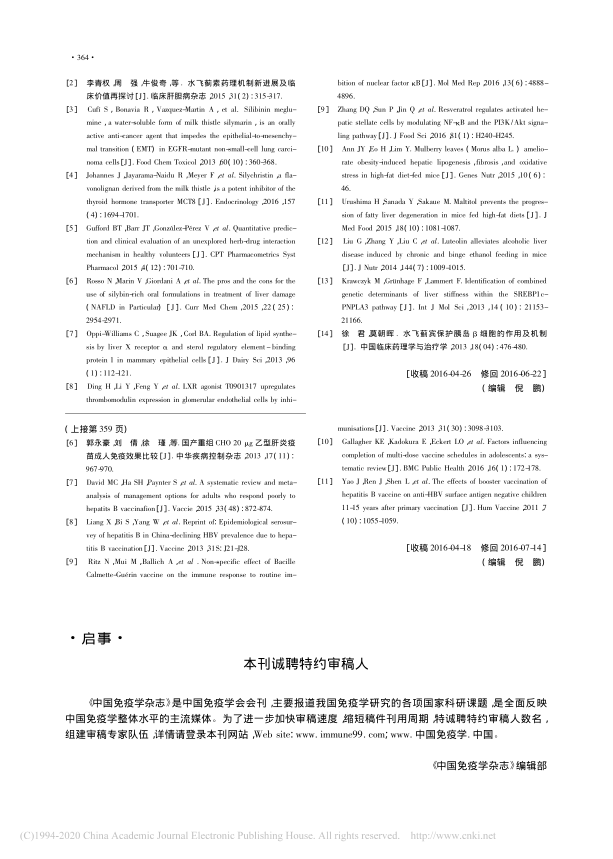Header: (71, 51, 96, 62)
Reference: (66, 105, 299, 166), (65, 327, 298, 378), (65, 223, 298, 273), (66, 169, 299, 218), (317, 143, 550, 192), (318, 276, 550, 325), (318, 477, 550, 526), (318, 424, 552, 472), (65, 276, 296, 324), (317, 195, 551, 233), (65, 516, 298, 553), (66, 477, 299, 513), (317, 237, 549, 273), (316, 104, 550, 139), (66, 437, 295, 472), (64, 380, 299, 407), (317, 328, 549, 353), (66, 556, 299, 578), (66, 79, 300, 100), (334, 77, 553, 99), (433, 761, 545, 770)
Text: (67, 697, 540, 739), (407, 369, 550, 393), (406, 543, 549, 567), (64, 424, 127, 433)
Title: (243, 657, 368, 669)
